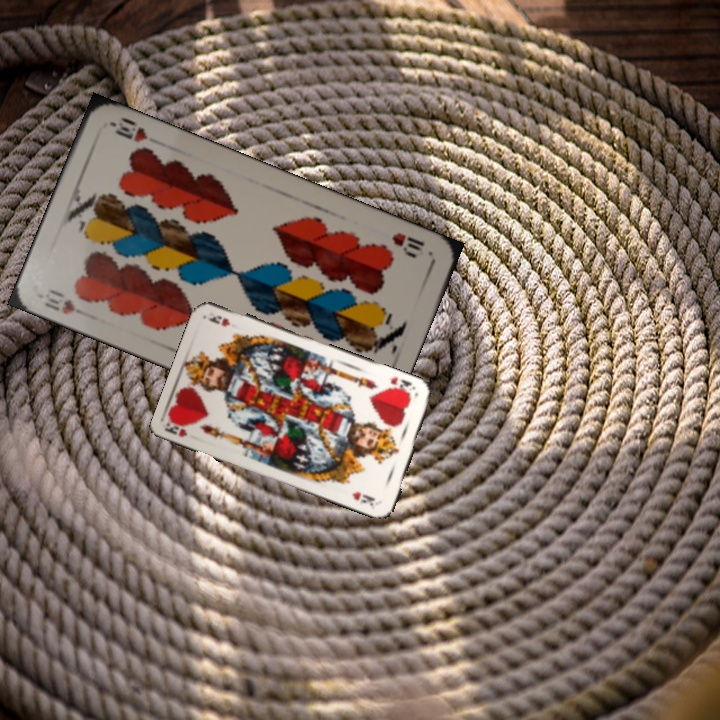H10: (387, 228, 427, 260), (40, 285, 78, 317)
HK: (384, 373, 418, 398), (163, 418, 190, 439)
